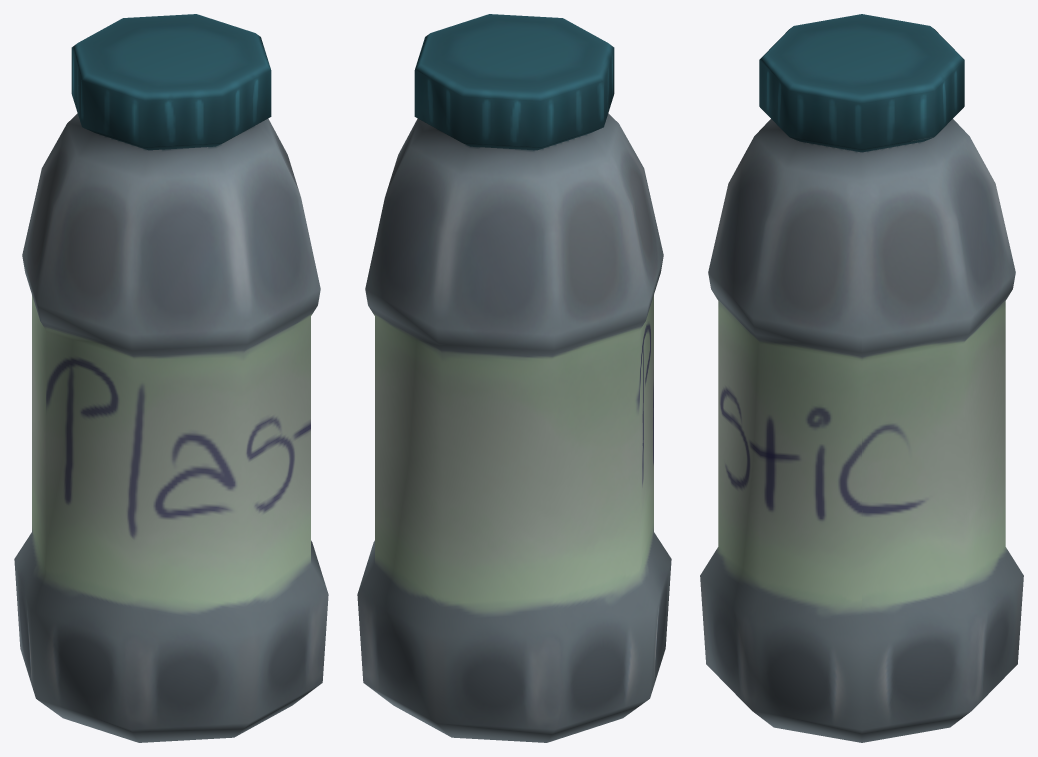
The model's file is Plastic_Material.fbx.
The picture shows the model from 3 angles, left to right: view 1: azimuth 30°, elevation 25°; view 2: azimuth 150°, elevation 25°; view 3: azimuth 270°, elevation 25°; orthographic projection.
Visible parts, largest first — view 1: Plastic_Material_Low; view 2: Plastic_Material_Low; view 3: Plastic_Material_Low.
Part boxes in pixels (x1,y1,x2,y2): Plastic_Material_Low: (14, 14, 328, 742); Plastic_Material_Low: (357, 14, 671, 742); Plastic_Material_Low: (700, 14, 1023, 742).
Bounding box in the file's own units: 2.98 × 6.44 × 2.98.
